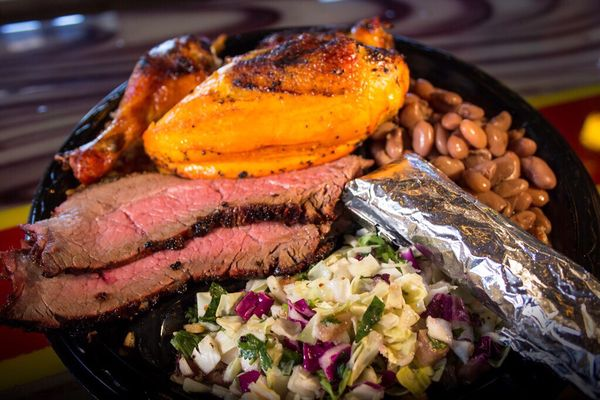soup: (2, 20, 417, 335), (1, 162, 372, 320)
